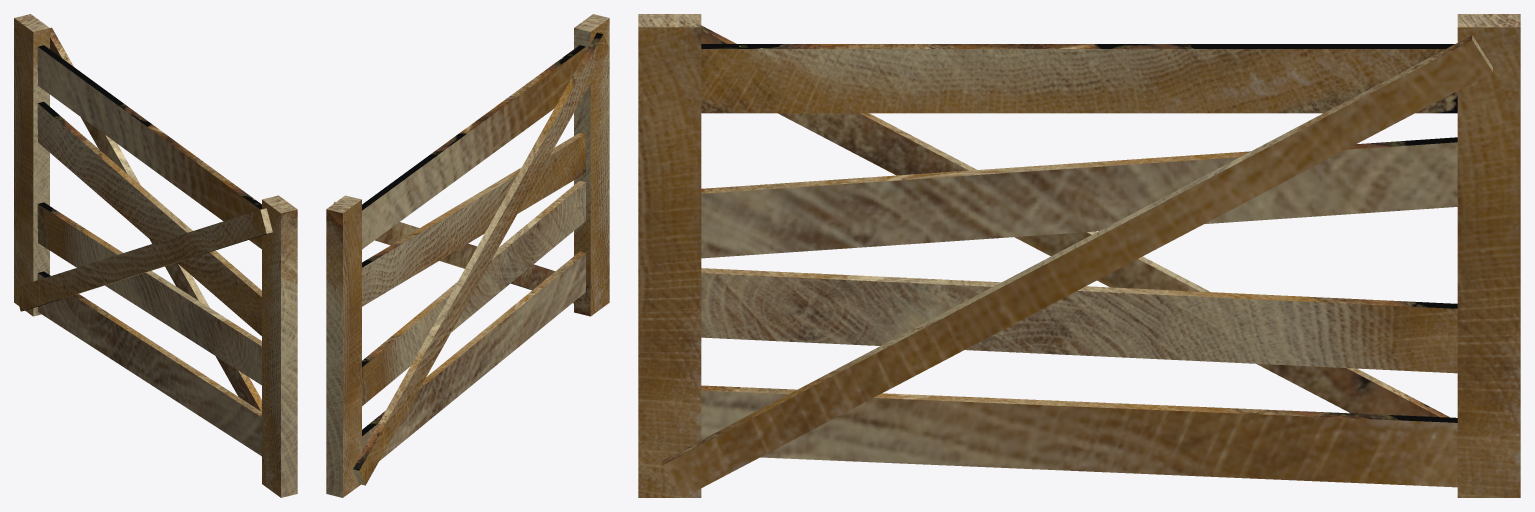
Rendered from fence-gate.glb.
3 renders of one model, left to right at view 1: azimuth 30°, elevation 25°; view 2: azimuth 150°, elevation 25°; view 3: azimuth 270°, elevation 25°, orthographic. The views are drawn at different scales.
Visible parts, largest first — view 1: Cube.019; view 2: Cube.019; view 3: Cube.019.
Part boxes in pixels (x1,y1,x2,y2): Cube.019: (14,14,297,497); Cube.019: (326,14,609,497); Cube.019: (638,14,1520,497).
Size of the model in its own units: 0.1516 by 1.28 by 2.17.
1 material, 1 textured.
